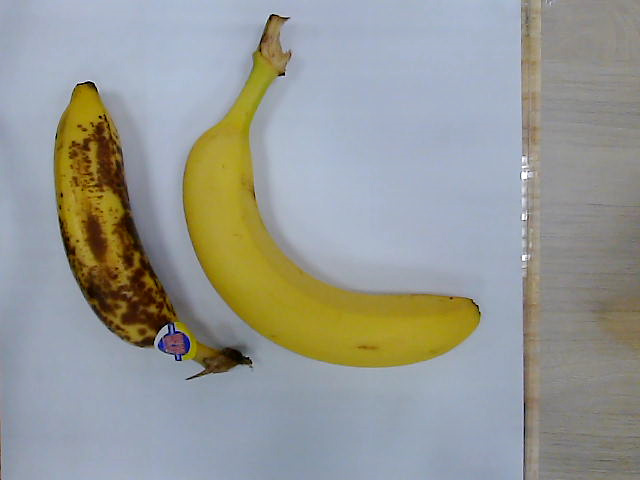fresh_banana: (184, 14, 480, 368)
rotten_banana: (55, 79, 252, 374)
